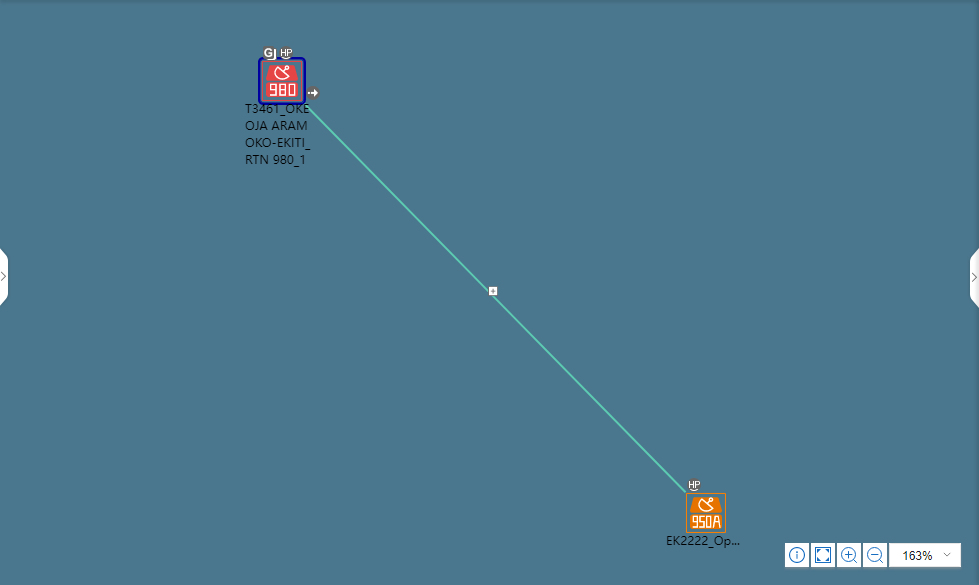Link_Blue: (303, 100, 684, 496)
RTN_Orange: (688, 497, 730, 531)
RTN_Red: (266, 63, 301, 97)
